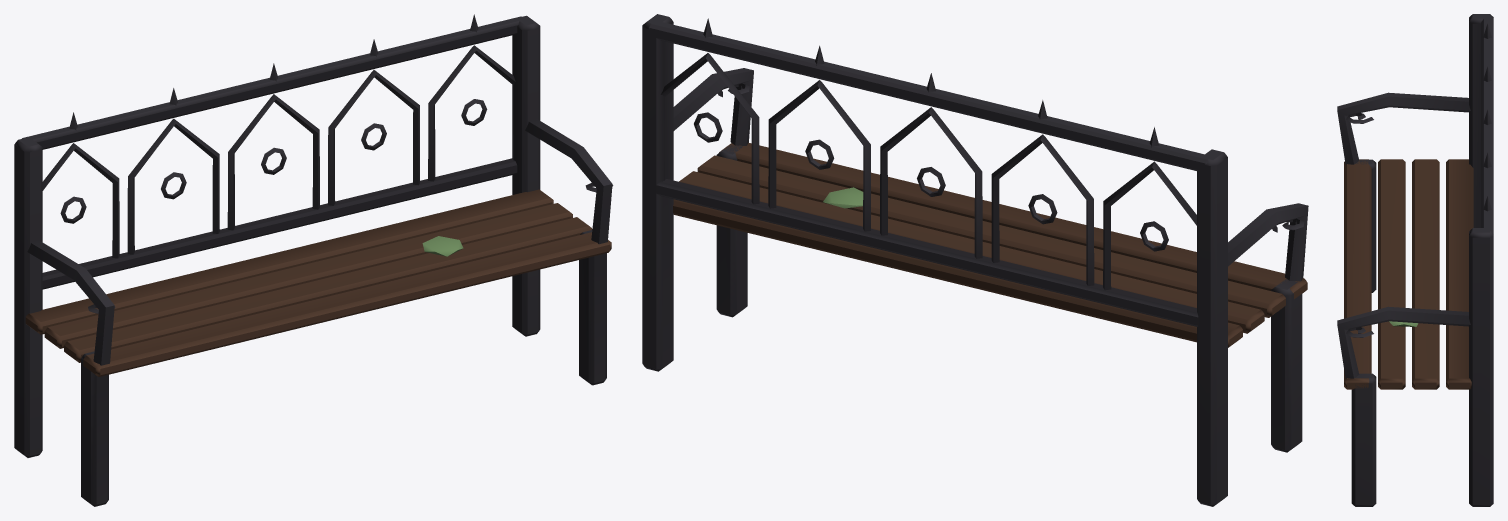
Rendered from bench_gothic.glb.
3 views of the same model, side by side, from view 1: azimuth 30°, elevation 25°; view 2: azimuth 150°, elevation 25°; view 3: azimuth 270°, elevation 25° (orthographic). The views are drawn at different scales.
Visible parts, largest first — view 1: bench_gothic; view 2: bench_gothic; view 3: bench_gothic.
Boxes of the visible parts, x1,y1,x2,y2 form: bench_gothic: (14, 14, 613, 506); bench_gothic: (642, 14, 1308, 506); bench_gothic: (1337, 14, 1493, 506).
Bounding box in the file's own units: 1.72 × 1.03 × 0.507.
